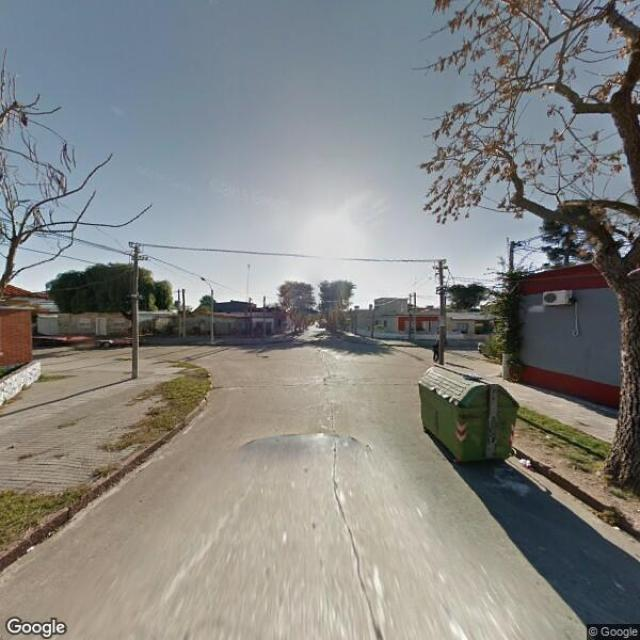garbage container: (413, 349, 533, 492)
